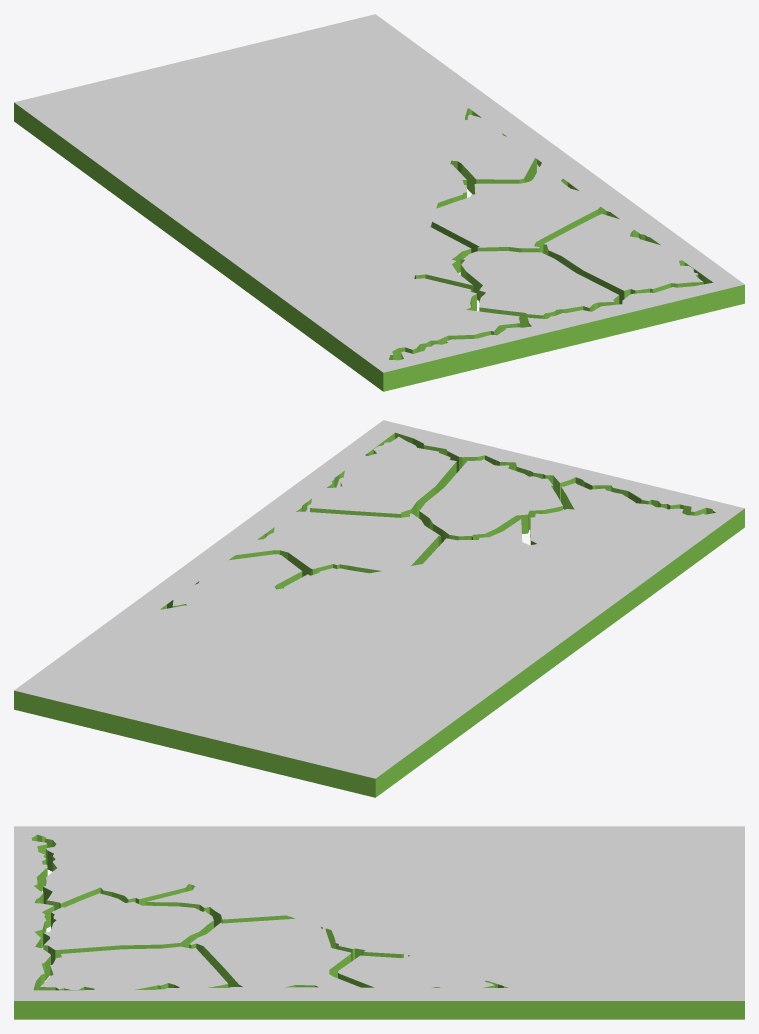
Rendered from Nivel 5.fbx.
3 renders of one model, top to bottom at view 1: azimuth 30°, elevation 25°; view 2: azimuth 150°, elevation 25°; view 3: azimuth 270°, elevation 25°, orthographic.
Visible parts, largest first — view 1: Plane, Plane.010, Plane.001, Plane.009, Plane.002, Plane.011, Plane.003, Plane.006, Plane.004, Plane.008, Plane.005, Plane.007; view 2: Plane, Plane.010, Plane.009, Plane.011, Plane.003, Plane.006, Plane.008, Plane.007, Plane.005, Plane.002, Plane.004, Plane.001; view 3: Plane, Plane.010, Plane.009, Plane.011, Plane.006, Plane.001, Plane.002, Plane.003, Plane.008, Plane.007, Plane.005, Plane.004.
Part boxes in pixels (x1,y1,x2,y2): Plane: (14, 14, 744, 391); Plane.010: (414, 161, 606, 252); Plane.001: (62, 83, 279, 162); Plane.009: (460, 251, 619, 327); Plane.002: (299, 278, 520, 360); Plane.011: (543, 214, 703, 304); Plane.003: (261, 220, 473, 292); Plane.006: (227, 53, 387, 177); Plane.004: (140, 152, 315, 230); Plane.008: (309, 35, 461, 120); Plane.005: (323, 164, 466, 226); Plane.007: (367, 114, 536, 194); Plane: (14, 420, 744, 797); Plane.010: (230, 511, 441, 576); Plane.009: (419, 459, 562, 543); Plane.011: (310, 437, 456, 518); Plane.003: (417, 519, 588, 615); Plane.006: (135, 622, 378, 713); Plane.008: (58, 608, 219, 696); Plane.007: (167, 554, 332, 631); Plane.005: (283, 568, 459, 632); Plane.002: (530, 483, 704, 575); Plane.004: (369, 610, 520, 706); Plane.001: (235, 669, 416, 756); Plane: (14, 826, 744, 1019); Plane.010: (189, 914, 363, 991); Plane.009: (43, 893, 213, 964); Plane.011: (39, 946, 228, 991); Plane.006: (445, 887, 701, 948); Plane.001: (531, 835, 702, 922); Plane.002: (43, 837, 228, 910); Plane.003: (146, 840, 353, 928); Plane.008: (493, 947, 710, 993); Plane.007: (338, 922, 495, 992); Plane.005: (312, 882, 460, 961); Plane.004: (348, 839, 571, 894).
Size of the model in its own units: 179 by 9 by 316.
